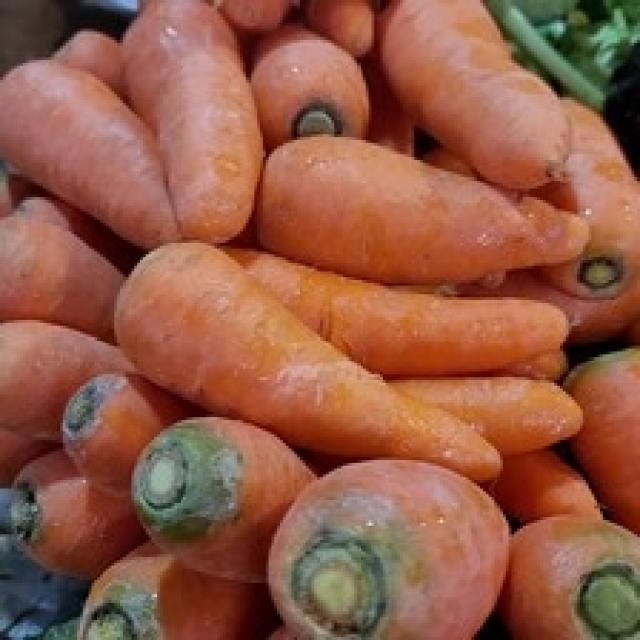carrot: (118, 245, 501, 479), (0, 0, 262, 247), (256, 138, 589, 283), (268, 460, 509, 639), (0, 32, 180, 247), (379, 0, 569, 188), (132, 418, 315, 582), (132, 421, 242, 539)
